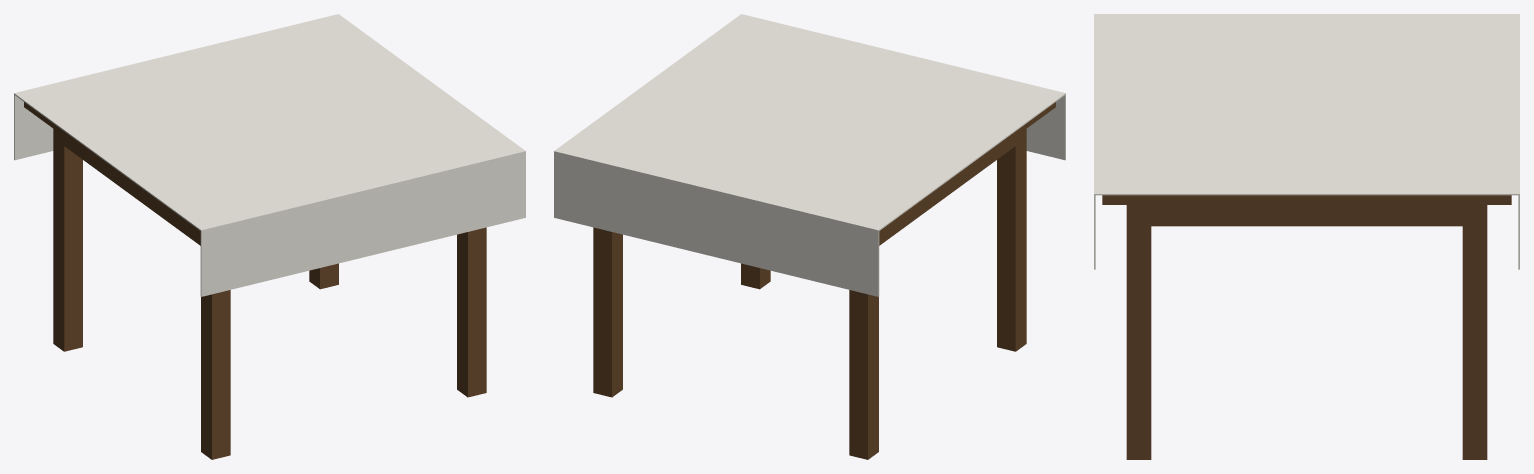
3 views of the same model, side by side, from view 1: azimuth 30°, elevation 25°; view 2: azimuth 150°, elevation 25°; view 3: azimuth 270°, elevation 25° (orthographic). The views are drawn at different scales.
Visible parts, largest first — view 1: parametric-variant-table-1st-pub-1069ae7f60b65a7c0b8a; view 2: parametric-variant-table-1st-pub-1069ae7f60b65a7c0b8a; view 3: parametric-variant-table-1st-pub-1069ae7f60b65a7c0b8a.
Part boxes in pixels (x1=…): parametric-variant-table-1st-pub-1069ae7f60b65a7c0b8a: x1=14, y1=14, x2=525, y2=459; parametric-variant-table-1st-pub-1069ae7f60b65a7c0b8a: x1=554, y1=14, x2=1065, y2=459; parametric-variant-table-1st-pub-1069ae7f60b65a7c0b8a: x1=1094, y1=14, x2=1519, y2=459.
Size of the model in its own units: 1.04 by 0.754 by 1.04.
